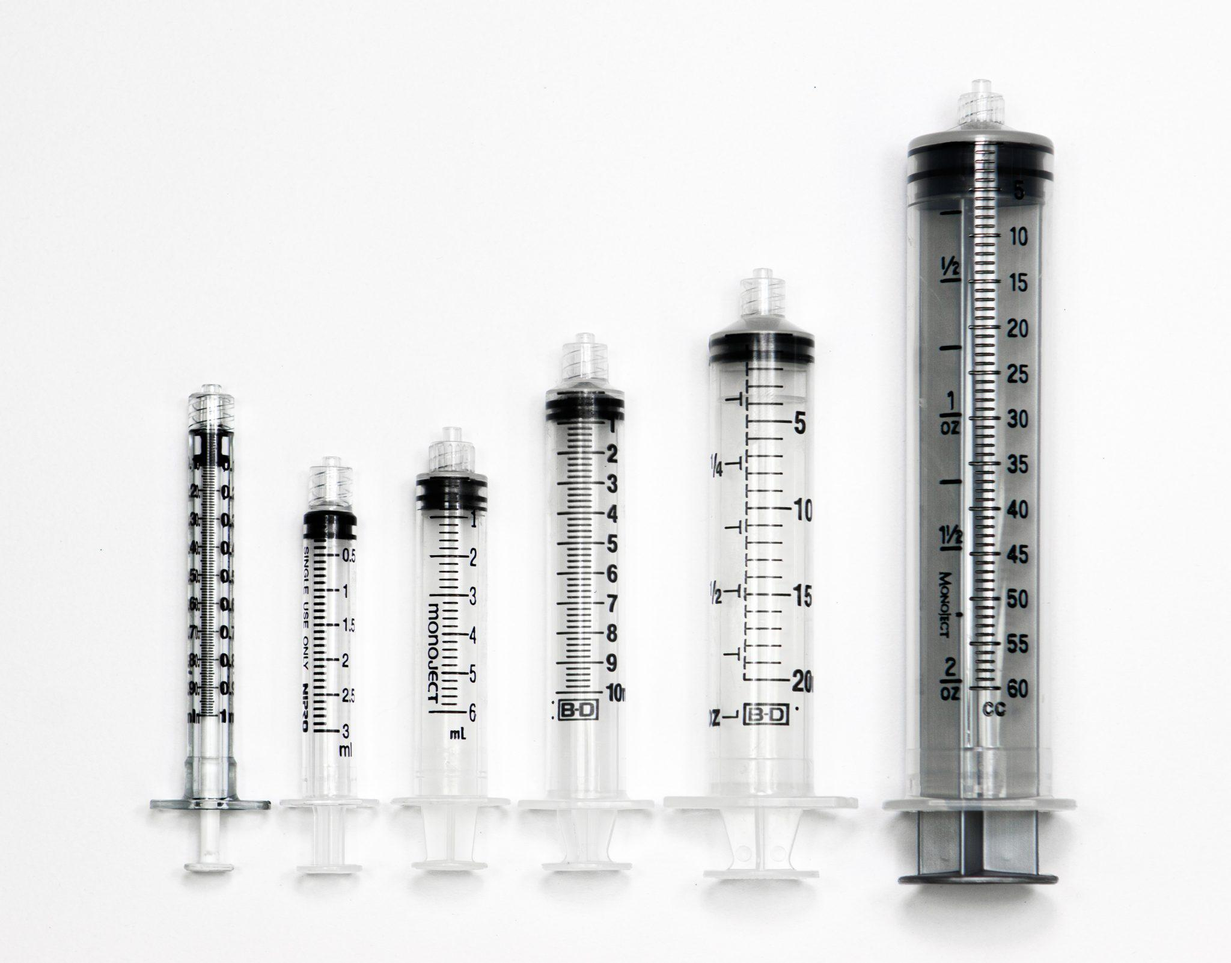Syringe: (886, 81, 1074, 882), (665, 269, 856, 878), (521, 334, 652, 870), (150, 384, 269, 872), (394, 428, 508, 870), (281, 457, 375, 873)
